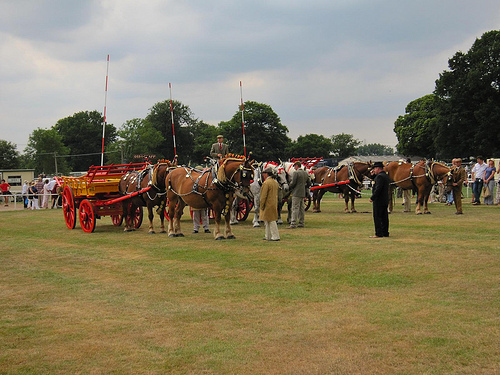horse: (160, 154, 256, 243), (119, 157, 179, 236), (382, 158, 456, 216), (309, 160, 377, 215), (244, 157, 292, 229)
